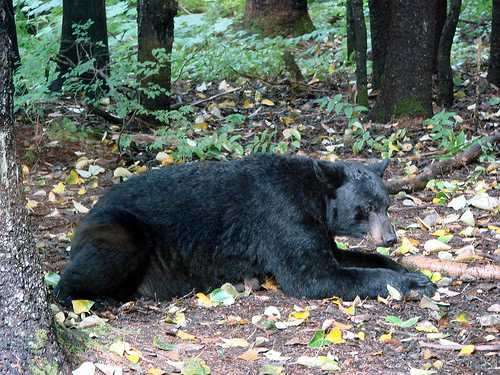bear: (300, 156, 428, 284)
